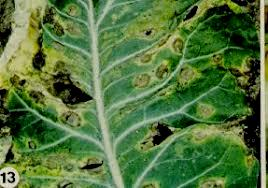Bok-Choy-Diseased: (2, 0, 255, 159)
